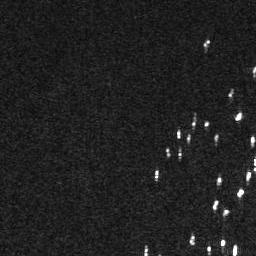ship: (235, 111, 243, 123), (244, 170, 252, 182), (153, 169, 161, 181), (236, 188, 245, 198), (219, 237, 226, 248), (212, 199, 219, 210), (232, 244, 238, 256), (204, 38, 210, 48), (250, 135, 255, 147), (176, 128, 181, 139), (216, 176, 222, 185), (204, 120, 211, 127)
